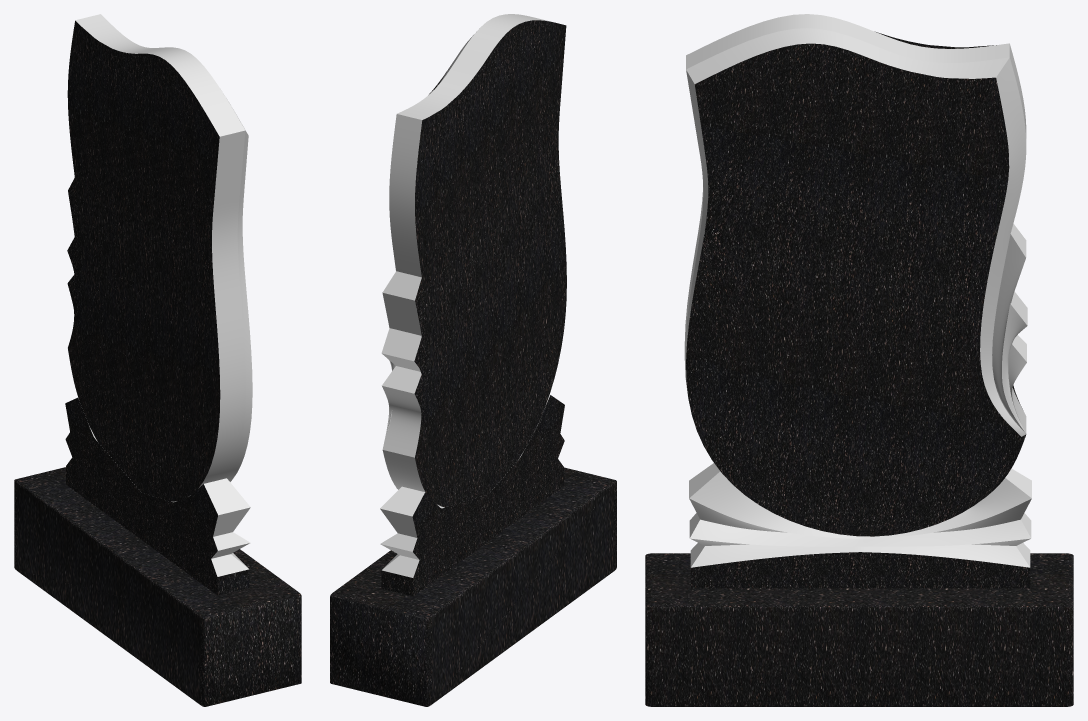
The model's file is Резной [granite_1_standard] (80).glb.
The picture shows the model from 3 angles, left to right: view 1: azimuth 30°, elevation 25°; view 2: azimuth 150°, elevation 25°; view 3: azimuth 270°, elevation 25°; orthographic projection. The views are drawn at different scales.
Parts seen in each view (by area): view 1: Cube.003, Куб.001, Cube.004; view 2: Cube.003, Куб.001, Cube.004; view 3: Cube.003, Куб.001, Cube.004.
Part boxes in pixels (x1,y1,x2,y2): Cube.003: (67, 14, 252, 501); Куб.001: (14, 467, 301, 706); Cube.004: (65, 397, 250, 595); Cube.003: (381, 14, 566, 507); Куб.001: (330, 467, 616, 706); Cube.004: (380, 395, 564, 596); Cube.003: (684, 14, 1027, 536); Куб.001: (645, 553, 1073, 706); Cube.004: (689, 463, 1031, 588).
Bounding box in the file's own units: 0.15 × 0.8471 × 0.5.
2 materials, 1 textured.
